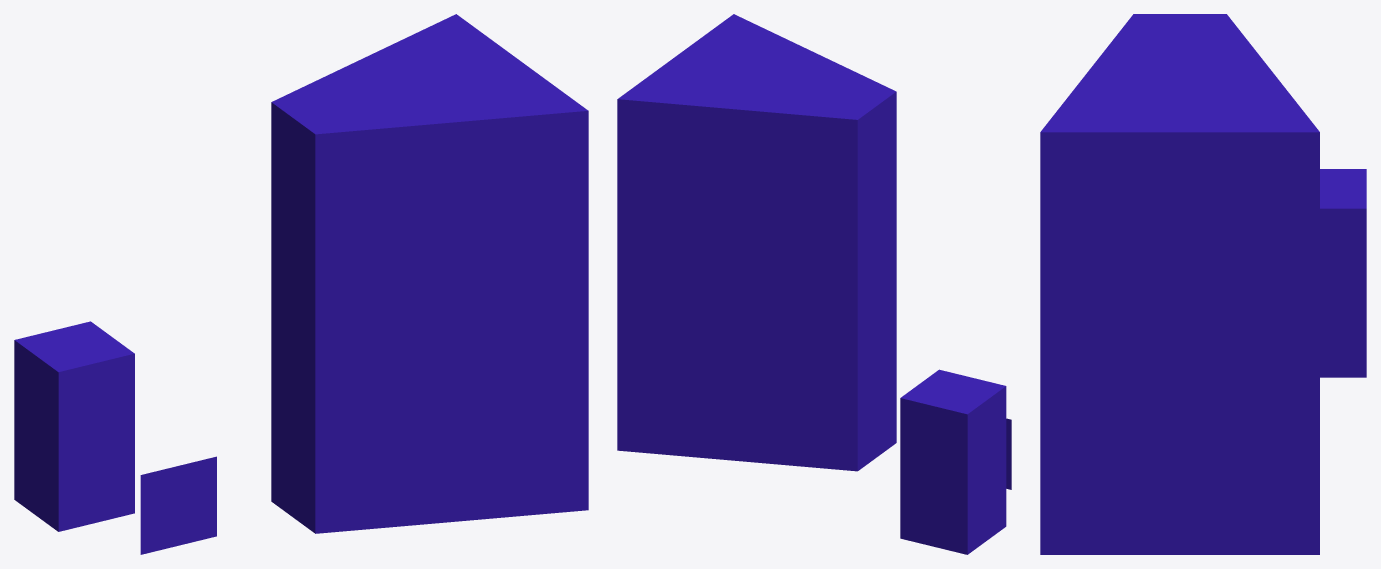
Rendered from building.obj.
3 renders of one model, left to right at view 1: azimuth 30°, elevation 25°; view 2: azimuth 150°, elevation 25°; view 3: azimuth 270°, elevation 25°, orthographic. The views are drawn at different scales.
Visible parts, largest first — view 1: light; view 2: light; view 3: light.
Part boxes in pixels (x1=…): light: x1=14, y1=14, x2=588, y2=554; light: x1=617, y1=14, x2=1011, y2=554; light: x1=1040, y1=14, x2=1366, y2=554.
Size of what is drawn, in the model's own units: 11 by 10 by 7.
